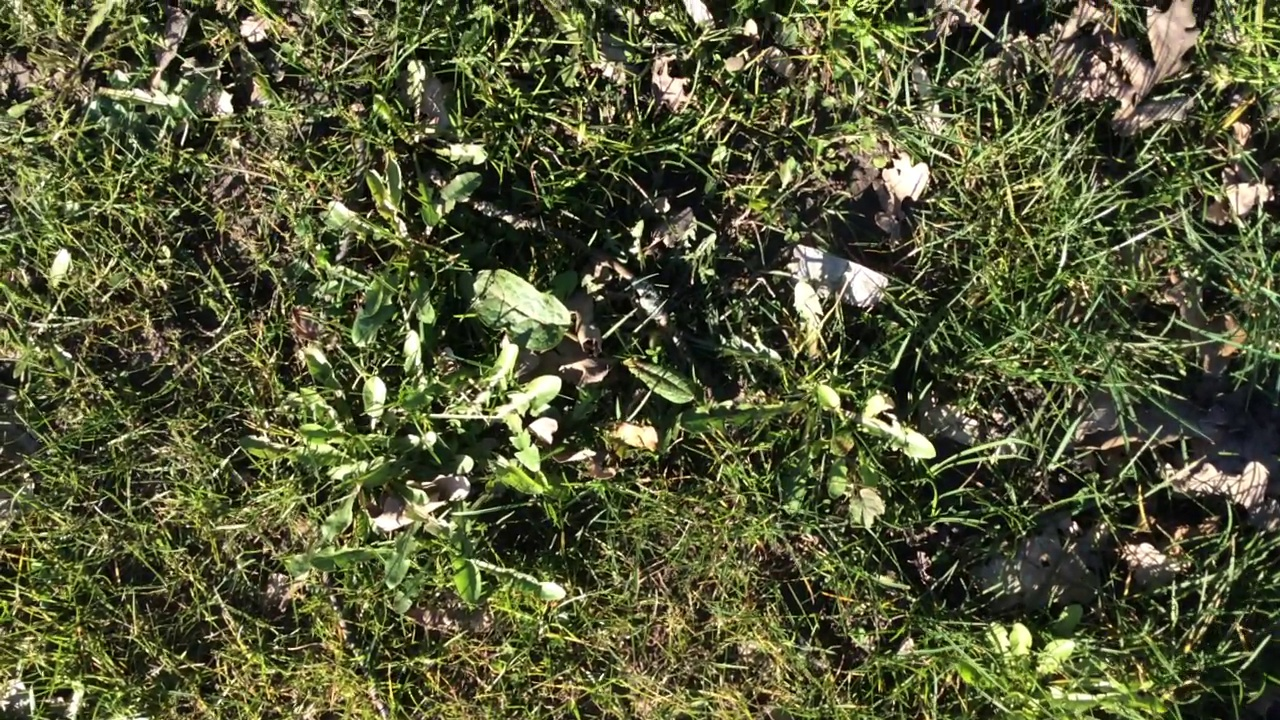rumex: (461, 272, 571, 357), (621, 357, 696, 405)
